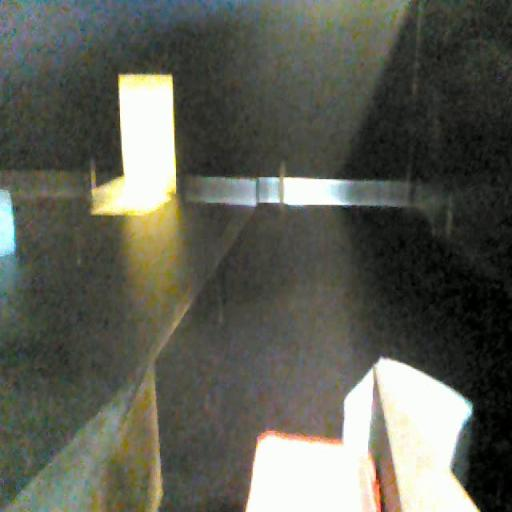cube: (240, 423, 382, 512), (0, 190, 18, 262)
